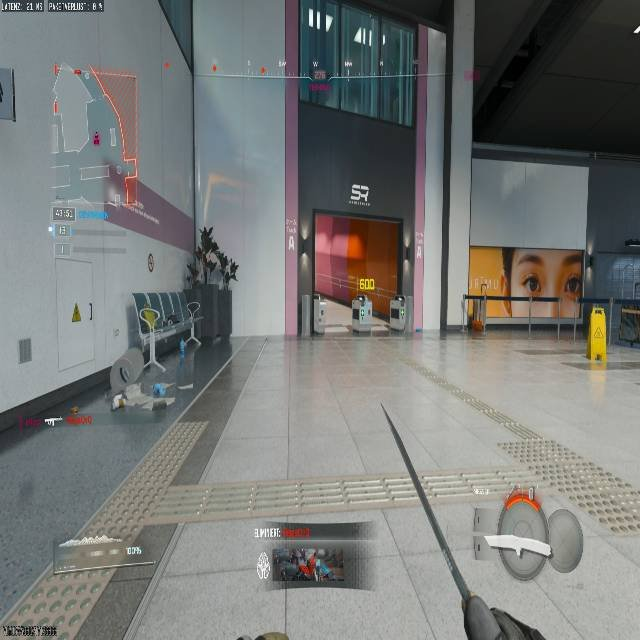head: (197, 225, 215, 245)
player: (184, 226, 237, 288)
